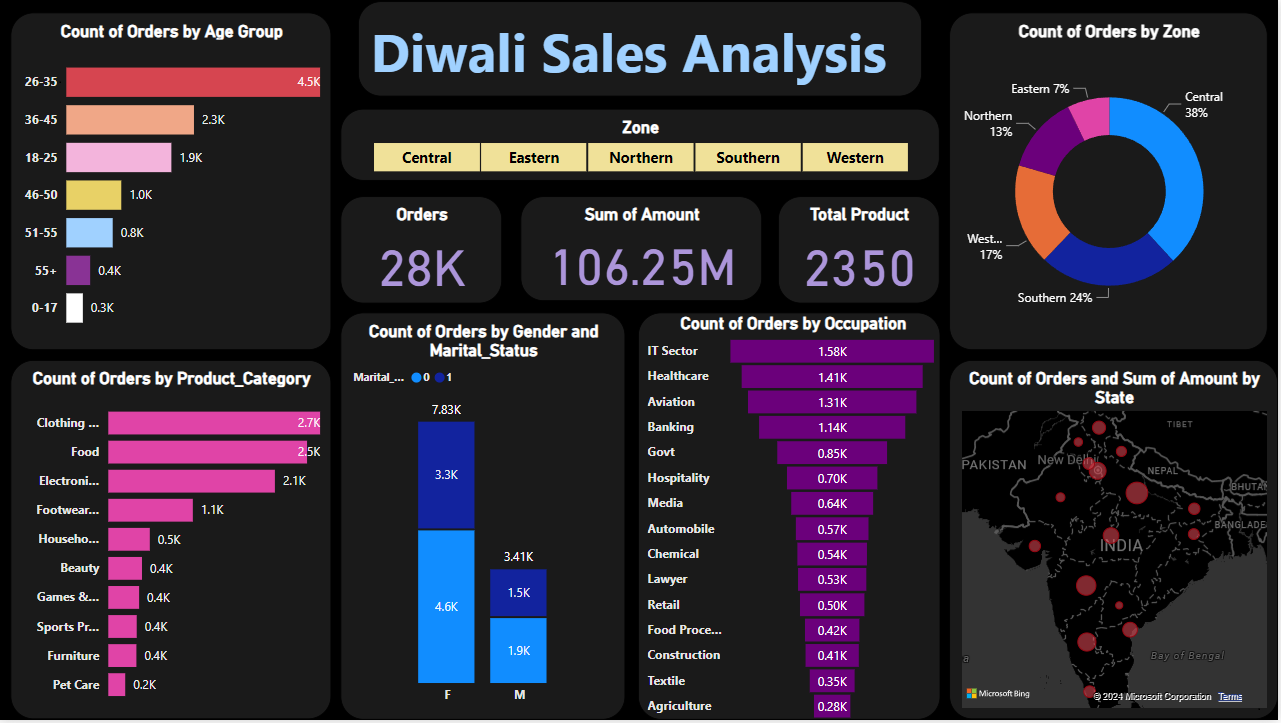

This screenshot's page, from the dashboard's own definition file:
{"tool":"powerbi","page":{"name":"Page 1","canvas":[1280,720],"ordinal":0},"visuals":[{"type":"barChart","fields":{"Y":["CountNonNull(diwali 1.Orders)"],"Category":["diwali 1.Age Group"]},"box":[12.8,12.8,320.9,337.2],"z":0},{"type":"barChart","fields":{"Y":["CountNonNull(diwali 1.Orders)"],"Category":["diwali 1.Product_Category"]},"box":[12.8,360.5,320.9,359.3],"z":1000},{"type":"map","fields":{"Category":["diwali 1.State"],"Size":["CountNonNull(diwali 1.Orders)"]},"box":[951.2,360.5,329.1,359.3],"z":2000},{"type":"donutChart","fields":{"Y":["CountNonNull(diwali 1.Orders)"],"Category":["diwali 1.Zone"]},"box":[951.2,12.8,318.6,337.2],"z":3000},{"type":"textbox","box":[360.5,1.2,564,95.3],"z":4000},{"type":"card","title":"Orders","fields":{"Values":["Sum(diwali 1.Orders)"]},"box":[343,196.5,161.6,107],"z":5000},{"type":"slicer","title":"Zone","fields":{"Values":["diwali 1.Zone"]},"box":[343,109.3,598.8,72.1],"z":6000},{"type":"card","title":"Sum of Amount","fields":{"Values":["Sum(diwali 1.Amount)"]},"box":[522.1,196.5,241.9,104.7],"z":7000},{"type":"card","title":"Total Product","fields":{"Values":["Count(diwali 1.Product_ID)"]},"box":[780.2,196.5,161.6,107],"z":8000},{"type":"columnChart","fields":{"Category":["diwali 1.Gender"],"Series":["diwali 1.Marital_Status"],"Y":["CountNonNull(diwali 1.Orders)"]},"box":[343,312.8,284.9,407],"z":9000},{"type":"funnel","fields":{"Y":["CountNonNull(diwali 1.Orders)"],"Category":["diwali 1.Occupation"]},"box":[639.5,312.8,302.3,407],"z":9001}]}

Visuals, with their boxes in screenshot pixels (x1, y1, x2, y2), scaled from the page's 1280x720 canvas onto the 1281x723 screenshot:
barChart - CountNonNull(diwali 1.Orders) x diwali 1.Age Group: {"x1": 13, "y1": 13, "x2": 334, "y2": 351}
barChart - CountNonNull(diwali 1.Orders) x diwali 1.Product_Category: {"x1": 13, "y1": 362, "x2": 334, "y2": 722}
map - diwali 1.State x CountNonNull(diwali 1.Orders): {"x1": 952, "y1": 362, "x2": 1280, "y2": 722}
donutChart - CountNonNull(diwali 1.Orders) x diwali 1.Zone: {"x1": 952, "y1": 13, "x2": 1271, "y2": 351}
textbox: {"x1": 361, "y1": 1, "x2": 925, "y2": 97}
"Orders" card: {"x1": 343, "y1": 197, "x2": 505, "y2": 305}
"Zone" slicer: {"x1": 343, "y1": 110, "x2": 943, "y2": 182}
"Sum of Amount" card: {"x1": 523, "y1": 197, "x2": 765, "y2": 302}
"Total Product" card: {"x1": 781, "y1": 197, "x2": 943, "y2": 305}
columnChart - diwali 1.Gender x diwali 1.Marital_Status: {"x1": 343, "y1": 314, "x2": 628, "y2": 722}
funnel - CountNonNull(diwali 1.Orders) x diwali 1.Occupation: {"x1": 640, "y1": 314, "x2": 943, "y2": 722}
